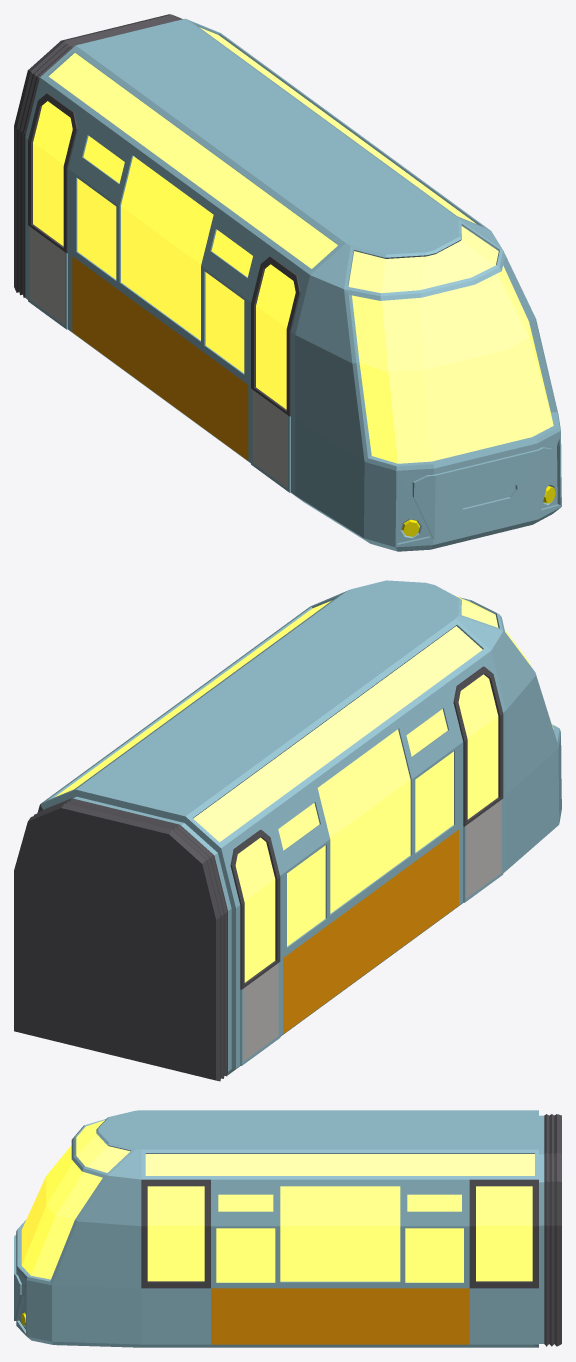
File: SM_tram_01.glb
The picture shows the model from 3 angles, top to bottom: view 1: azimuth 30°, elevation 25°; view 2: azimuth 150°, elevation 25°; view 3: azimuth 270°, elevation 25°; orthographic projection. The views are drawn at different scales.
Parts seen in each view (by area): view 1: SM_tram_01; view 2: SM_tram_01; view 3: SM_tram_01.
Boxes of the visible parts, box(x1,y1,x2,y2) form: SM_tram_01: box(14, 14, 561, 551); SM_tram_01: box(14, 580, 561, 1081); SM_tram_01: box(14, 1110, 561, 1347).
Bounding box in the file's own units: 1.63 × 1.82 × 4.94.
2 materials, 1 textured.
